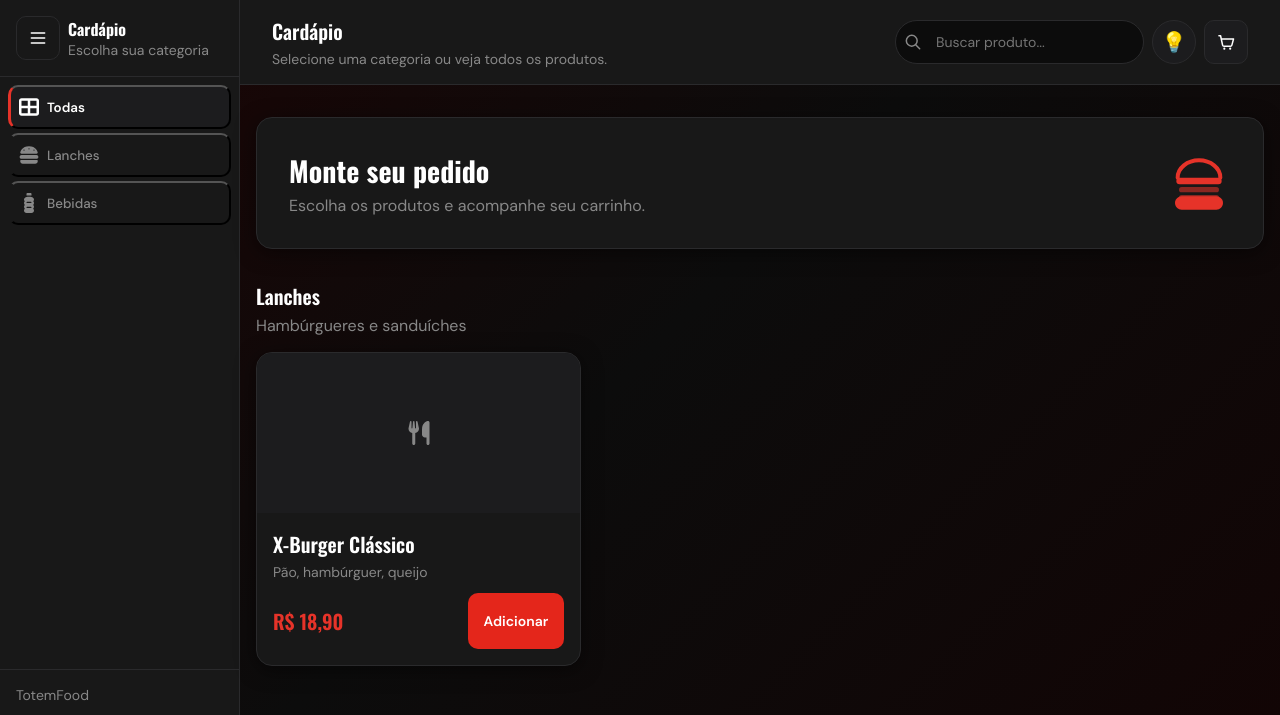
Test case: TotemHomePage — modal de produto e modal de carrinho (TASK-120.1) › botão do carrinho na topbar abre o modal do carrinho vazio com 'Continuar escolhendo'
The width and height of the screenshot is (1280, 715).
Expected: the heading "X-Burger Clássico" is shown, [273,529,415,559]
Click the button named "Abrir carrinho" at (1226, 42), box [1204,20,1248,64]
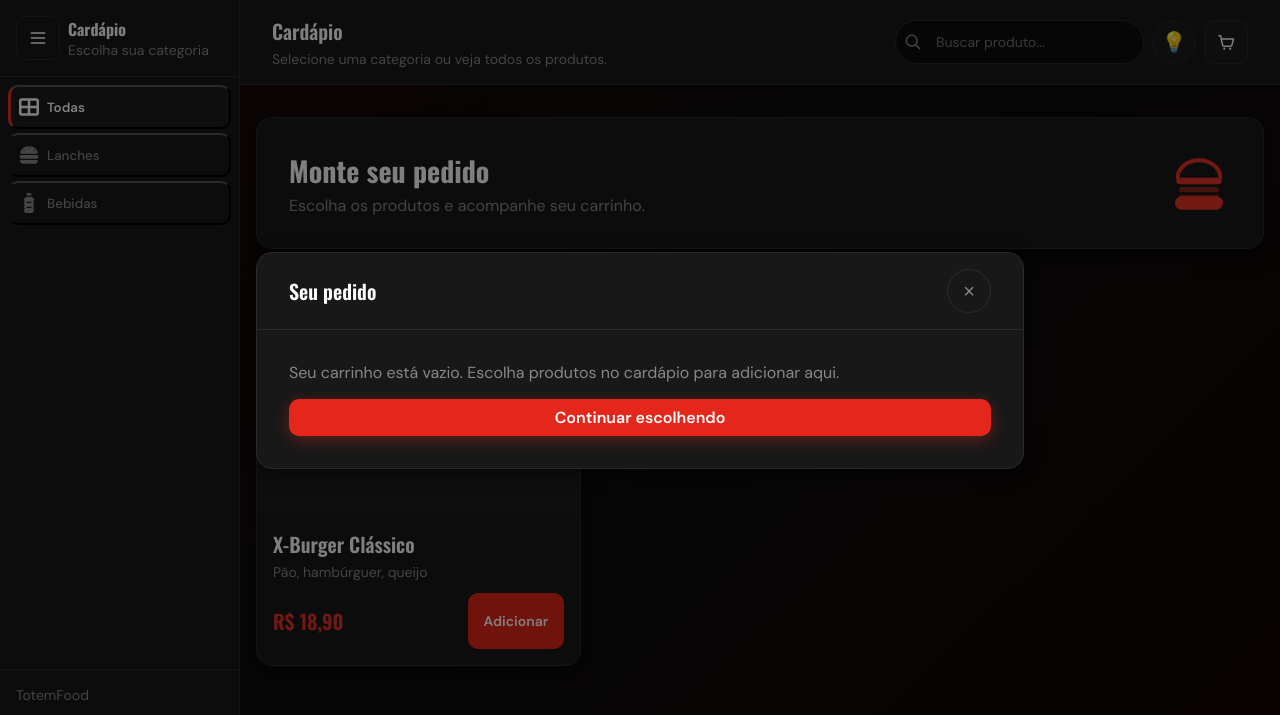
Expected: the dialog "Seu pedido" is shown, [256,252,1024,468]
Expected: the text "Seu carrinho está vazio. Escolha produtos no cardápio para adicionar aqui." is shown, [289,362,839,382]
Click the button "Continuar escolhendo" at (640, 417), box [289,398,991,436]
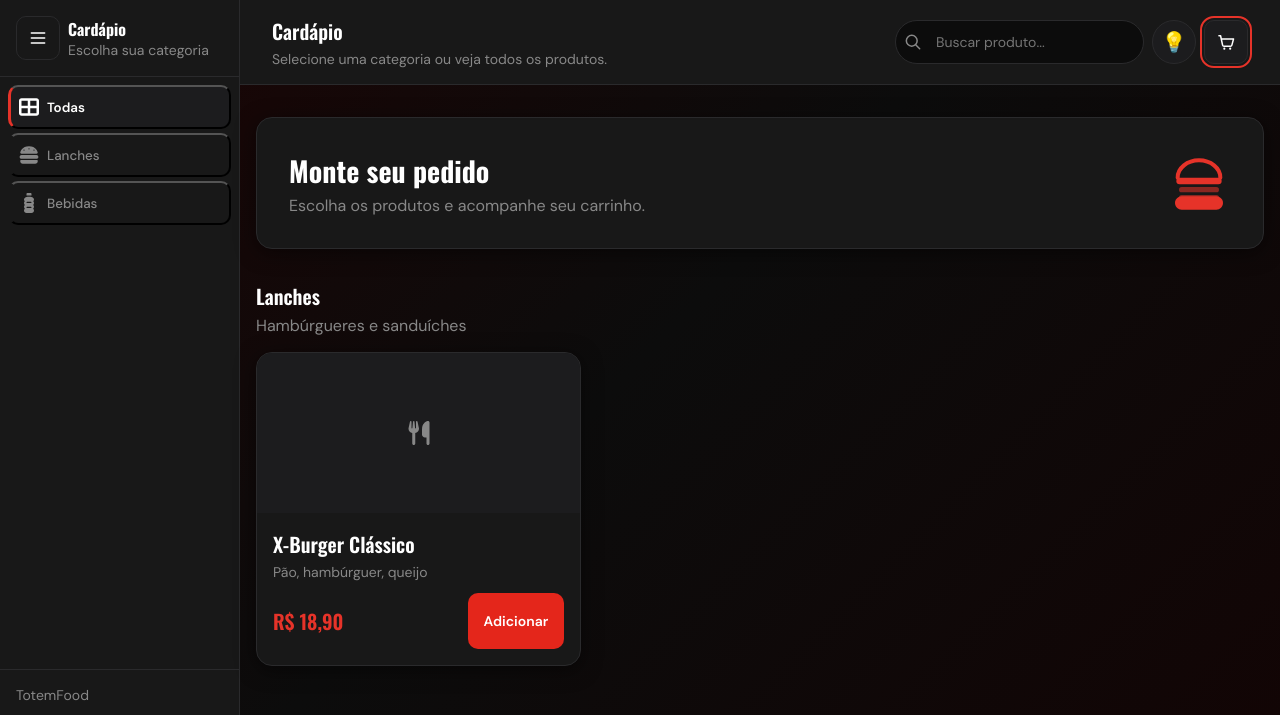
Expected: the dialog is gone
